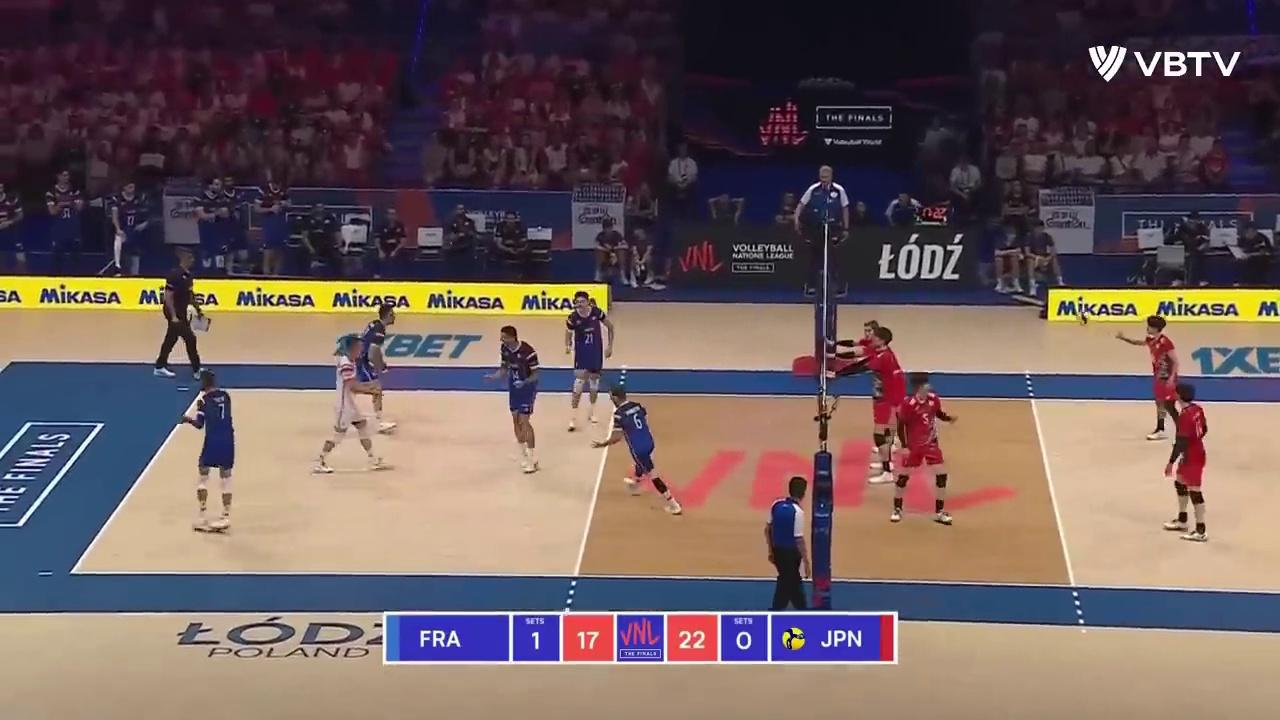ball: (1075, 313, 1091, 325)
